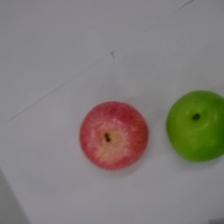green: (165, 89, 224, 163)
red: (78, 94, 150, 177)
